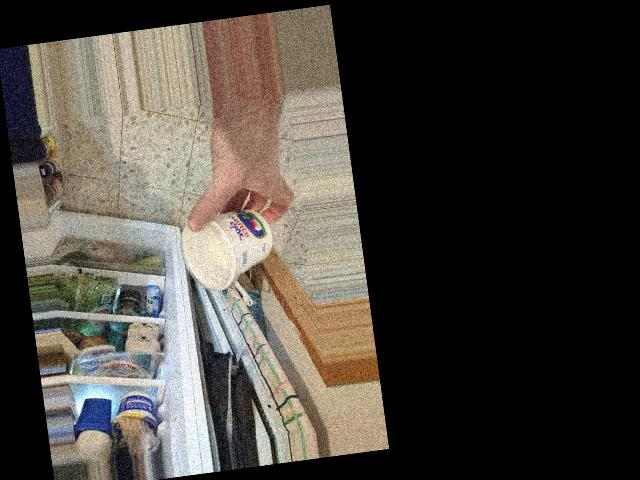cotage: (189, 207, 269, 299)
